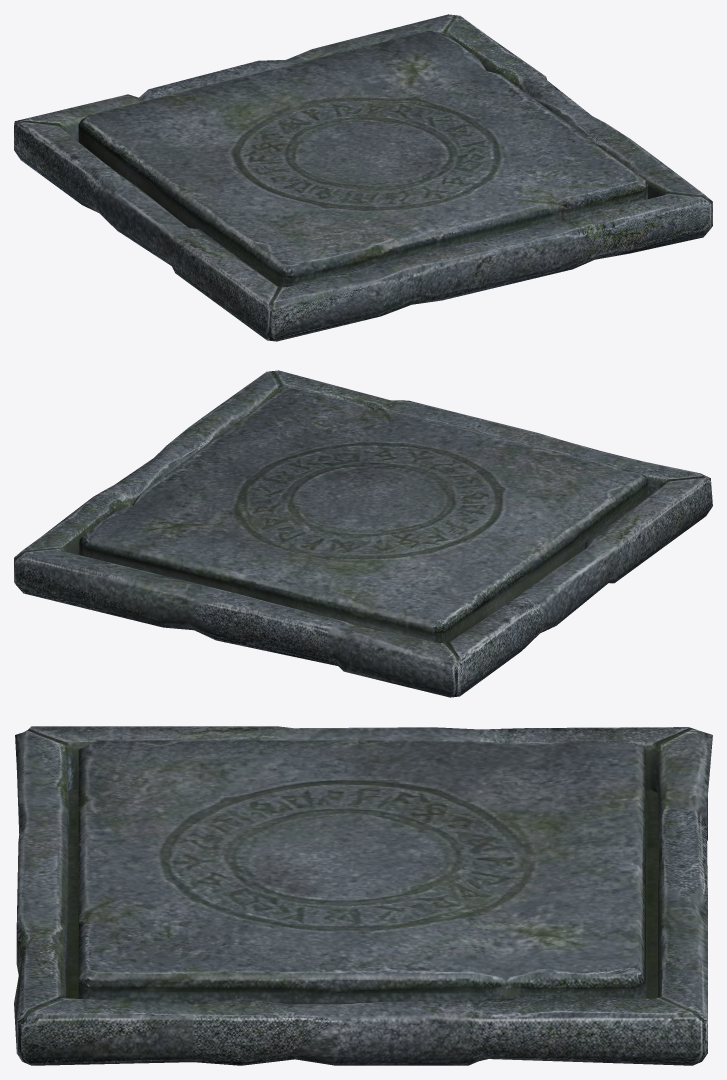
The model's file is piastra.fbx.
3 views of the same model, one above another, from view 1: azimuth 30°, elevation 25°; view 2: azimuth 150°, elevation 25°; view 3: azimuth 270°, elevation 25° (orthographic). The views are drawn at different scales.
Visible parts, largest first — view 1: tripo_node_11c98061; view 2: tripo_node_11c98061; view 3: tripo_node_11c98061.
Part boxes in pixels (x1,y1,x2,y2): tripo_node_11c98061: (14,14,712,341); tripo_node_11c98061: (14,370,712,697); tripo_node_11c98061: (14,726,712,1065).
Bounding box in the file's own units: 0.9995 × 0.1079 × 0.9995.
Materials: 1 (1 with a texture image).
